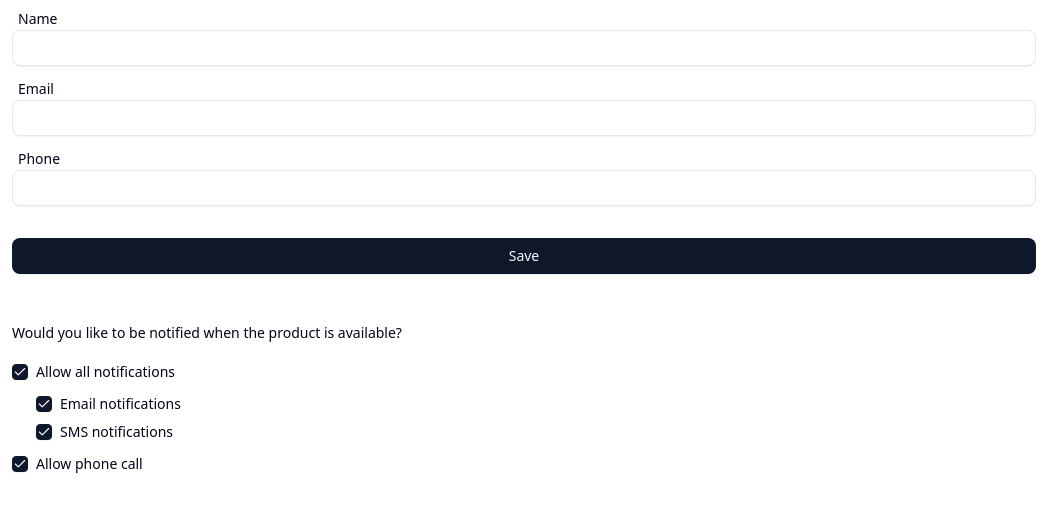
it: WaitListForm component tests › Fail submission tests › should show an error when submit a phone number too short
Type "219888877" into the field labelled "Phone" at (524,188), box [12,170,1036,206]
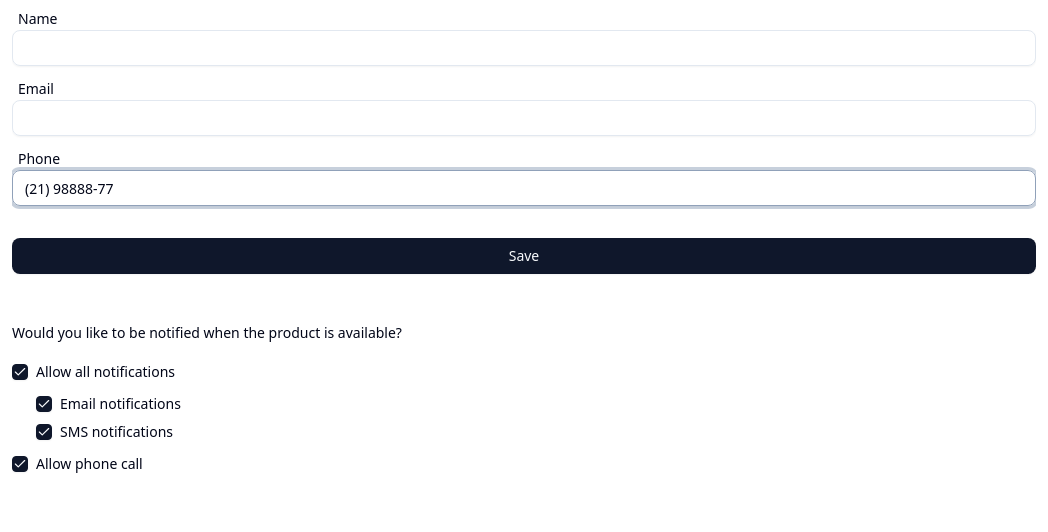
Click the button at (524,256), box [12,238,1036,274]
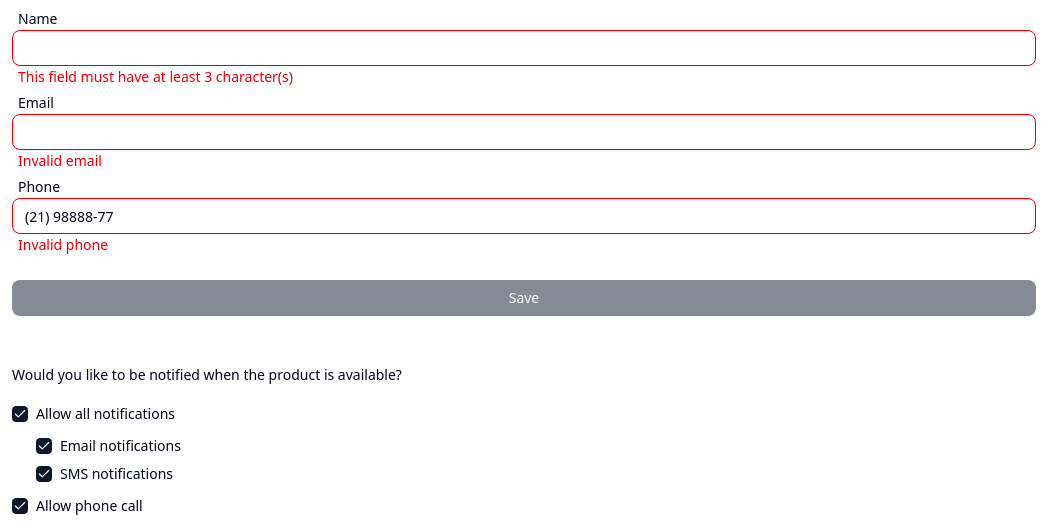
Result: the text "Invalid phone" is shown at [18,235,108,254]
